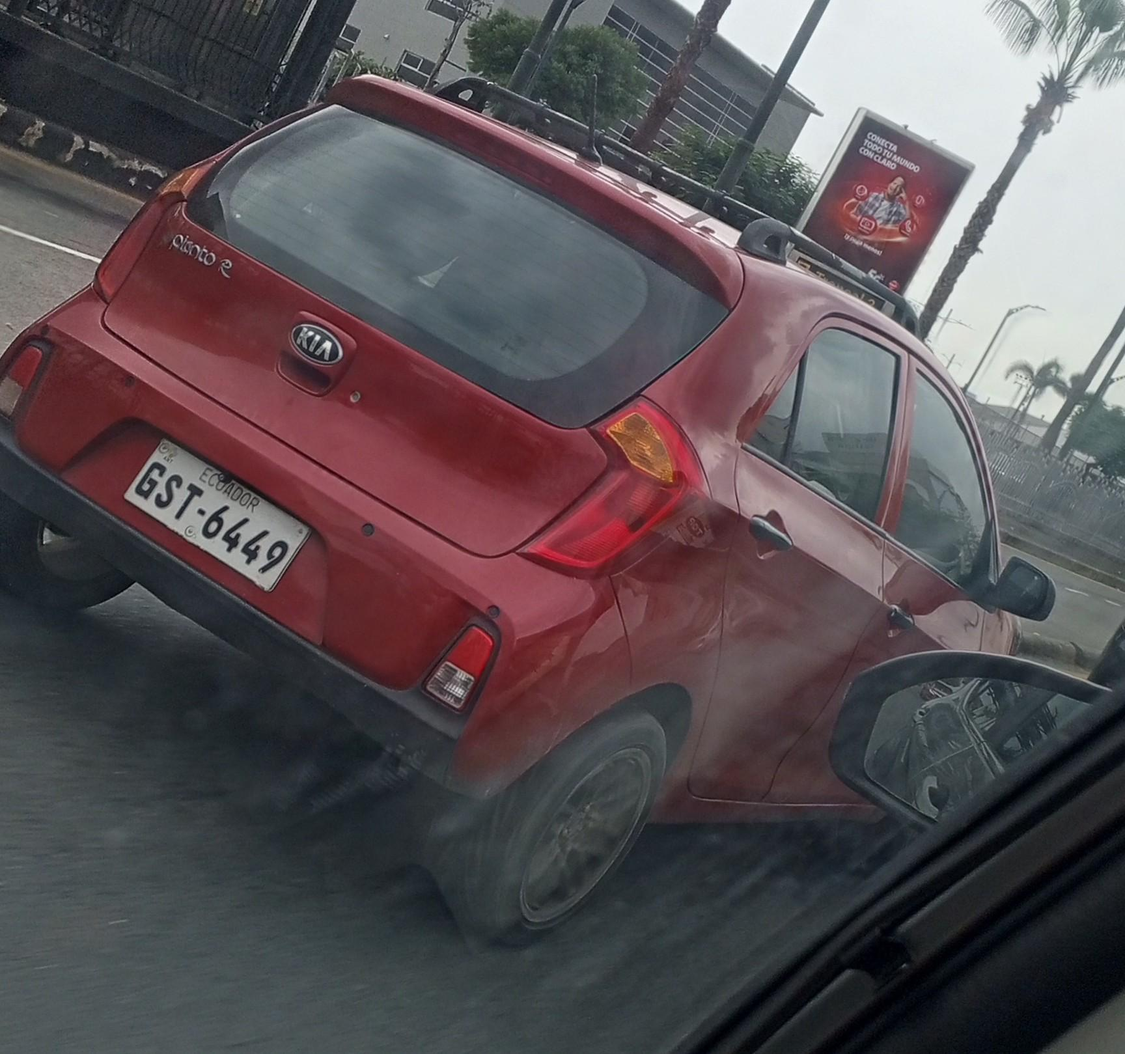license_plate: (124, 440, 307, 593)
